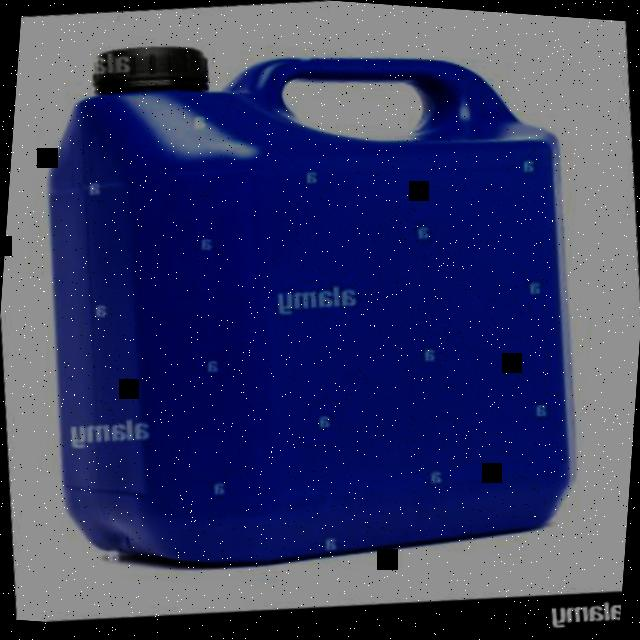chemical_plastic_gallon: (0, 0, 621, 614)
